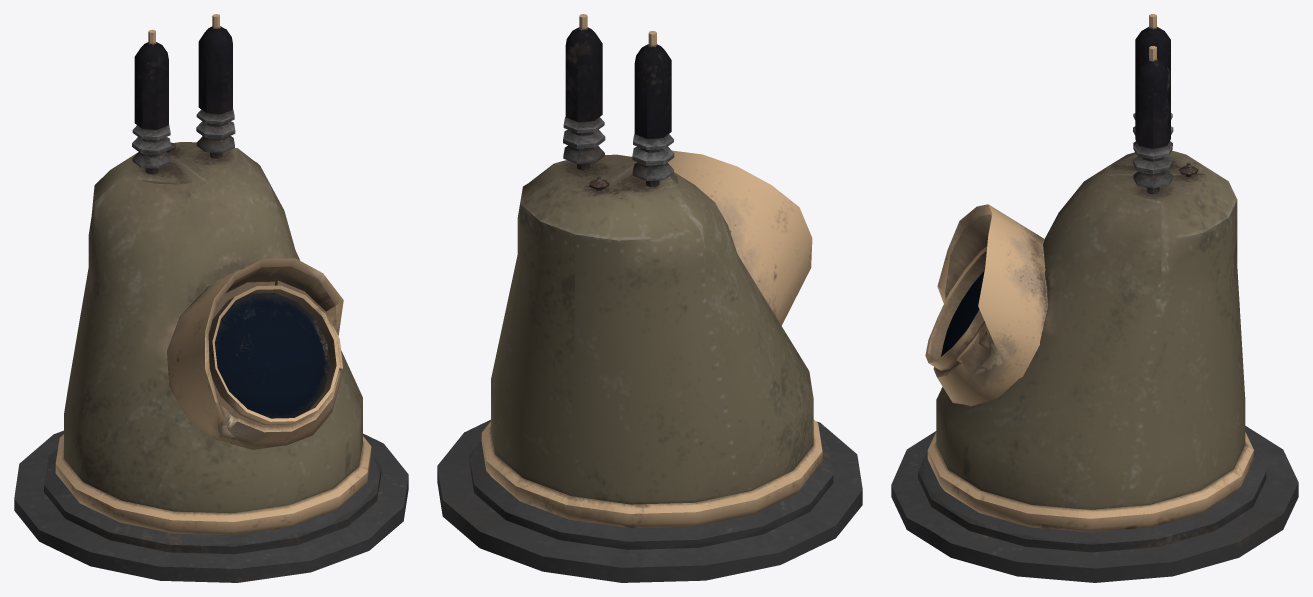
The model's file is Control Wheel Head.fbx.
3 renders of one model, left to right at view 1: azimuth 30°, elevation 25°; view 2: azimuth 150°, elevation 25°; view 3: azimuth 270°, elevation 25°, orthographic. The views are drawn at different scales.
Visible parts, largest first — view 1: Base; view 2: Base; view 3: Base.
Part boxes in pixels (<box>): Base: <box>14,14,408,582</box>; Base: <box>437,14,862,582</box>; Base: <box>891,14,1298,582</box>.
Size of the model in its own units: 55.47 by 70 by 55.47.
